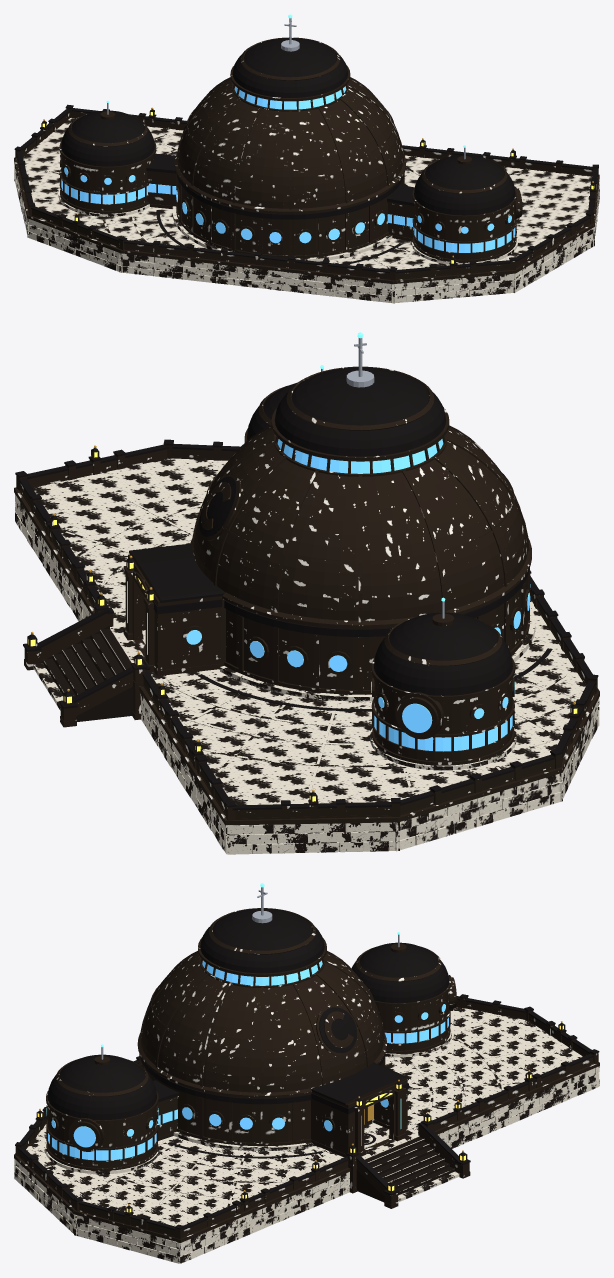
File: ILHA2_04_CAPSULE_LANDMARK_94f9d4.fbx
3 renders of one model, top to bottom at view 1: azimuth 30°, elevation 25°; view 2: azimuth 150°, elevation 25°; view 3: azimuth 270°, elevation 25°, orthographic. The views are drawn at different scales.
Visible parts, largest first — view 1: DB_Cap_Dome__Plaster_DB_White, DB_Cap_Terrace__Stone_DB_Block_B, DB_Cap_Terrace__Stone_Paving_DB, DB_Cap_Annexes__Roof_DB_Blue, DB_Cap_Terrace__Plaster_DB_White, DB_Cap_Annexes__Plaster_DB_White, DB_Cap_Dome__Roof_DB_Blue, DB_Cap_Terrace__Roof_DB_Blue, DB_Cap_Dome__Plaster_DB_Navy, DB_Cap_Annexes__Plaster_DB_Navy, DB_Cap_Dome__Plaster_DBCapRib, DB_Cap_Terrace__Plaster_DB_Navy (+4 smaller); view 2: DB_Cap_Dome__Plaster_DB_White, DB_Cap_Terrace__Stone_Paving_DB, DB_Cap_Terrace__Stone_DB_Block_B, DB_Cap_Dome__Roof_DB_Blue, DB_Cap_Terrace__Plaster_DB_White, DB_Cap_Annexes__Roof_DB_Blue, DB_Cap_Terrace__Roof_DB_Blue, DB_Cap_Dome__Plaster_DB_Navy, DB_Cap_Dome__Plaster_DBCapRib, DB_Cap_Annexes__Plaster_DB_White, DB_Cap_Terrace__Plaster_DB_Navy, DB_Cap_Entrance__Plaster_DB_White (+11 smaller); view 3: DB_Cap_Dome__Plaster_DB_White, DB_Cap_Terrace__Stone_Paving_DB, DB_Cap_Terrace__Stone_DB_Block_B, DB_Cap_Annexes__Roof_DB_Blue, DB_Cap_Dome__Roof_DB_Blue, DB_Cap_Annexes__Plaster_DB_White, DB_Cap_Terrace__Plaster_DB_White, DB_Cap_Terrace__Roof_DB_Blue, DB_Cap_Annexes__Plaster_DB_Navy, DB_Cap_Dome__Plaster_DB_Navy, DB_Cap_Dome__Plaster_DBCapRib, DB_Cap_Stair__Stone_Paving_DB (+10 smaller).
Part boxes in pixels (x1,y1,x2,y2): DB_Cap_Dome__Plaster_DB_White: [177, 37, 402, 255]; DB_Cap_Terrace__Stone_DB_Block_B: [14, 132, 599, 303]; DB_Cap_Terrace__Stone_Paving_DB: [23, 118, 591, 269]; DB_Cap_Annexes__Roof_DB_Blue: [61, 110, 515, 215]; DB_Cap_Terrace__Plaster_DB_White: [14, 111, 599, 284]; DB_Cap_Annexes__Plaster_DB_White: [61, 111, 520, 259]; DB_Cap_Dome__Roof_DB_Blue: [176, 38, 404, 219]; DB_Cap_Terrace__Roof_DB_Blue: [14, 104, 598, 273]; DB_Cap_Dome__Plaster_DB_Navy: [174, 65, 405, 258]; DB_Cap_Annexes__Plaster_DB_Navy: [59, 141, 522, 262]; DB_Cap_Dome__Plaster_DBCapRib: [176, 77, 404, 255]; DB_Cap_Terrace__Plaster_DB_Navy: [15, 108, 598, 280]; DB_Cap_Dome__Plaster_DB_White: [193, 366, 527, 690]; DB_Cap_Terrace__Stone_Paving_DB: [32, 458, 585, 805]; DB_Cap_Terrace__Stone_DB_Block_B: [15, 475, 599, 854]; DB_Cap_Dome__Roof_DB_Blue: [199, 367, 529, 636]; DB_Cap_Terrace__Plaster_DB_White: [14, 448, 599, 825]; DB_Cap_Annexes__Roof_DB_Blue: [247, 383, 512, 695]; DB_Cap_Terrace__Roof_DB_Blue: [15, 439, 598, 810]; DB_Cap_Dome__Plaster_DB_Navy: [190, 407, 531, 694]; DB_Cap_Dome__Plaster_DBCapRib: [191, 425, 529, 690]; DB_Cap_Annexes__Plaster_DB_White: [258, 386, 512, 761]; DB_Cap_Terrace__Plaster_DB_Navy: [16, 445, 597, 820]; DB_Cap_Entrance__Plaster_DB_White: [123, 554, 222, 671]; DB_Cap_Dome__Plaster_DB_White: [141, 908, 383, 1142]; DB_Cap_Terrace__Stone_Paving_DB: [26, 1006, 582, 1226]; DB_Cap_Terrace__Stone_DB_Block_B: [14, 1024, 599, 1263]; DB_Cap_Annexes__Roof_DB_Blue: [47, 942, 449, 1120]; DB_Cap_Dome__Roof_DB_Blue: [140, 908, 384, 1104]; DB_Cap_Annexes__Plaster_DB_White: [48, 943, 454, 1167]; DB_Cap_Terrace__Plaster_DB_White: [14, 1000, 599, 1242]; DB_Cap_Terrace__Roof_DB_Blue: [15, 994, 599, 1230]; DB_Cap_Annexes__Plaster_DB_Navy: [46, 977, 456, 1170]; DB_Cap_Dome__Plaster_DB_Navy: [137, 937, 386, 1146]; DB_Cap_Dome__Plaster_DBCapRib: [139, 951, 385, 1143]; DB_Cap_Stair__Stone_Paving_DB: [365, 1136, 459, 1202].
Bounding box in the file's own units: 140 × 62.88 × 140.
Materials: 10 (3 with a texture image).
